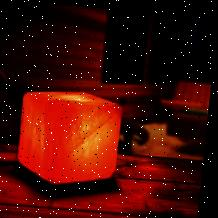cube: (17, 87, 125, 187)
